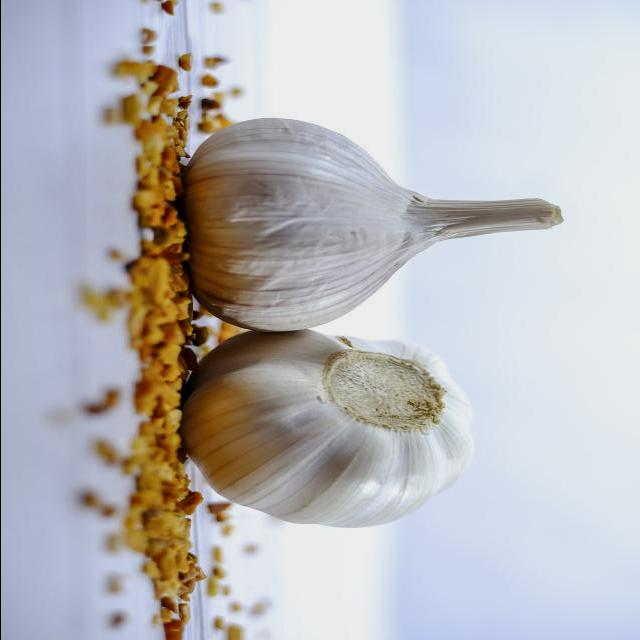garlic: (197, 121, 561, 332), (194, 335, 465, 525)
